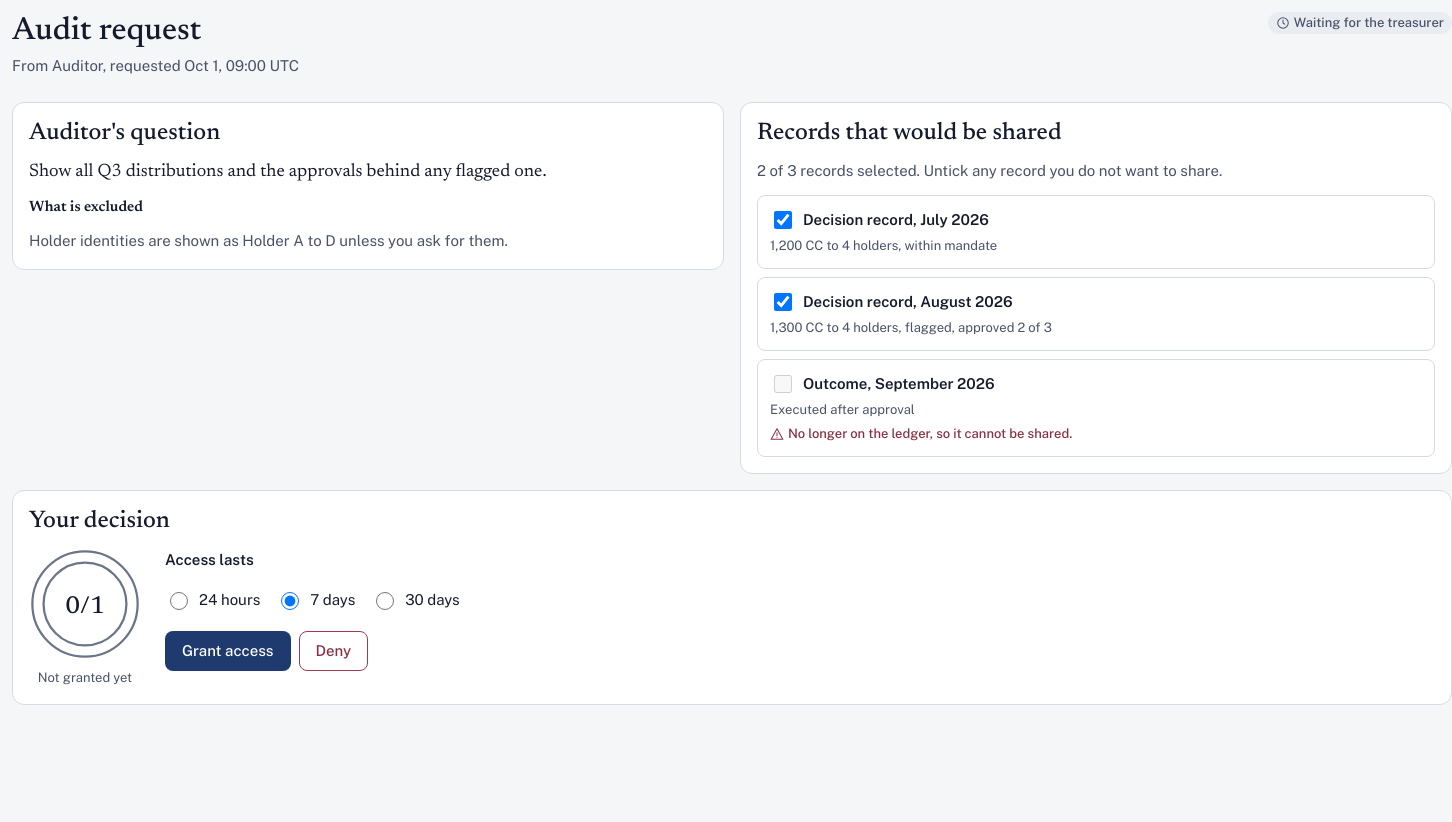
treasurer review page › grants with the chosen expiry and the chosen subset, and closes the seal from the response
This screenshot has width=1452, height=822.
Expected: the element "Auditor's question" is shown, x1=12 y1=102 x2=724 y2=270
Click the checkbox labelled "Decision record, August 2026" at x=783, y=302, box x1=774 y1=293 x2=792 y2=311
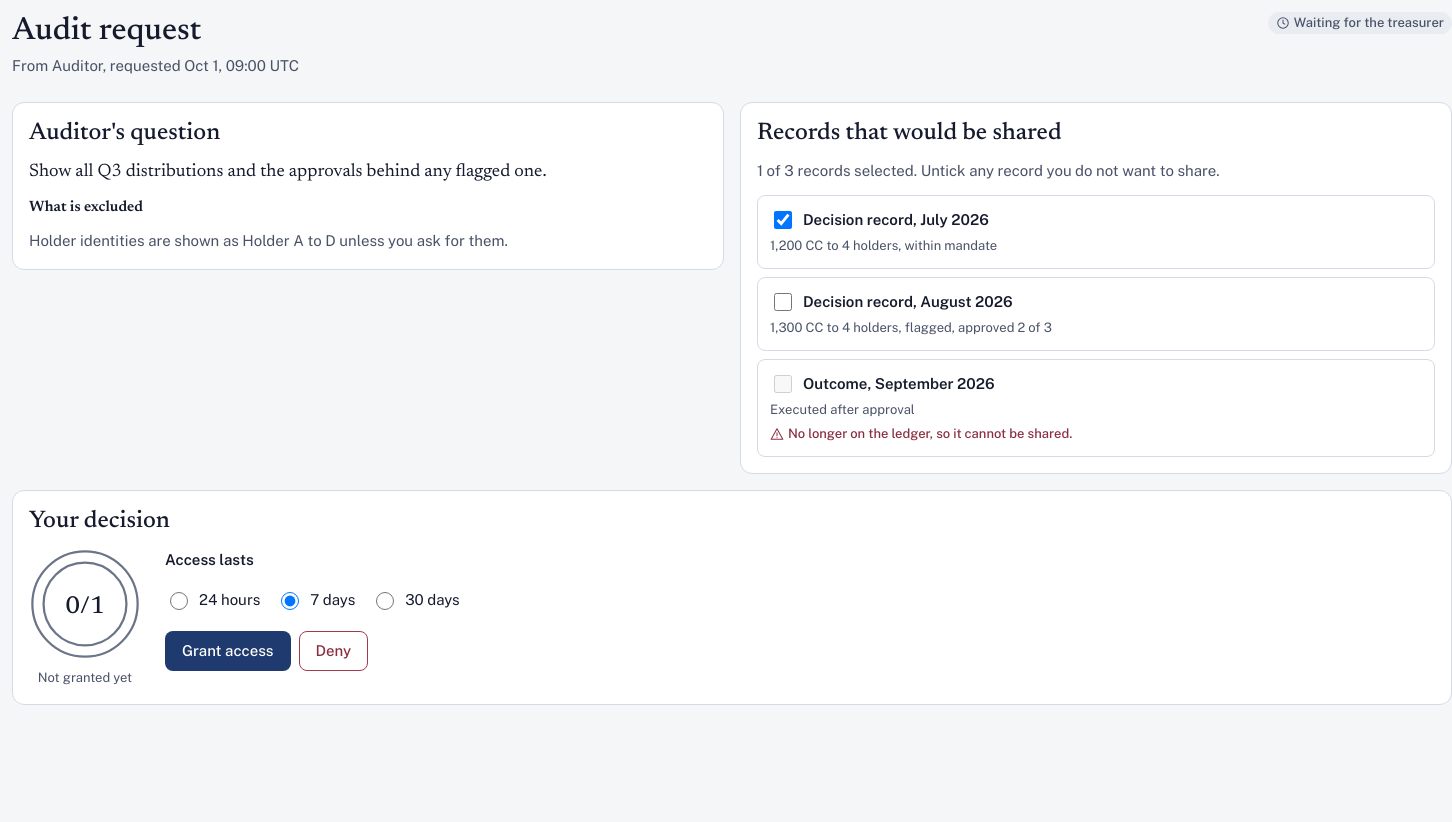
Click the radio button labelled "30 days" at x=385, y=601, box x1=376 y1=592 x2=394 y2=610
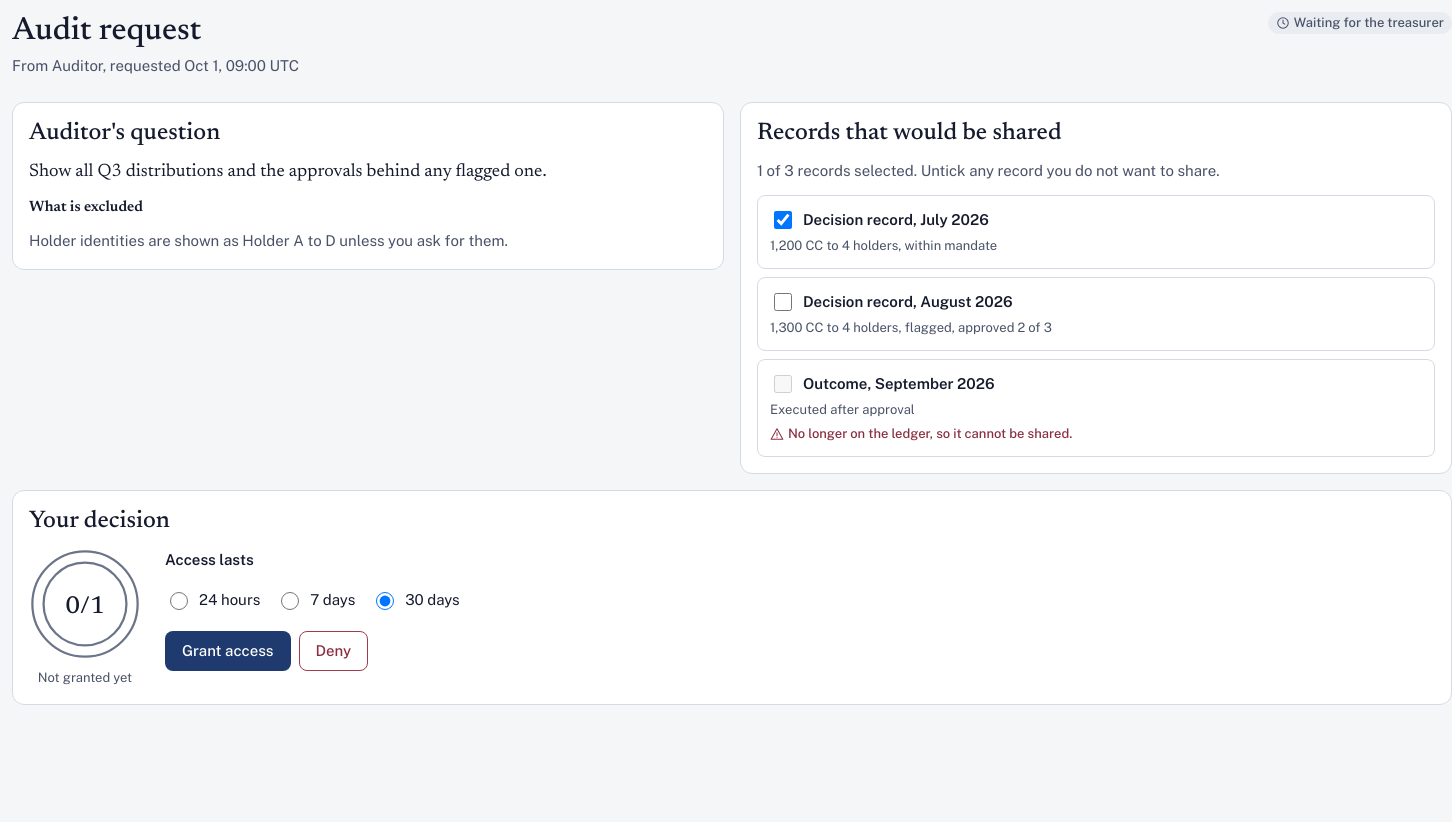
Now the radio button labelled "7 days" is not checked, box x1=281 y1=592 x2=299 y2=610
Click the button "Grant access" at x=228, y=651, box x1=165 y1=631 x2=290 y2=671
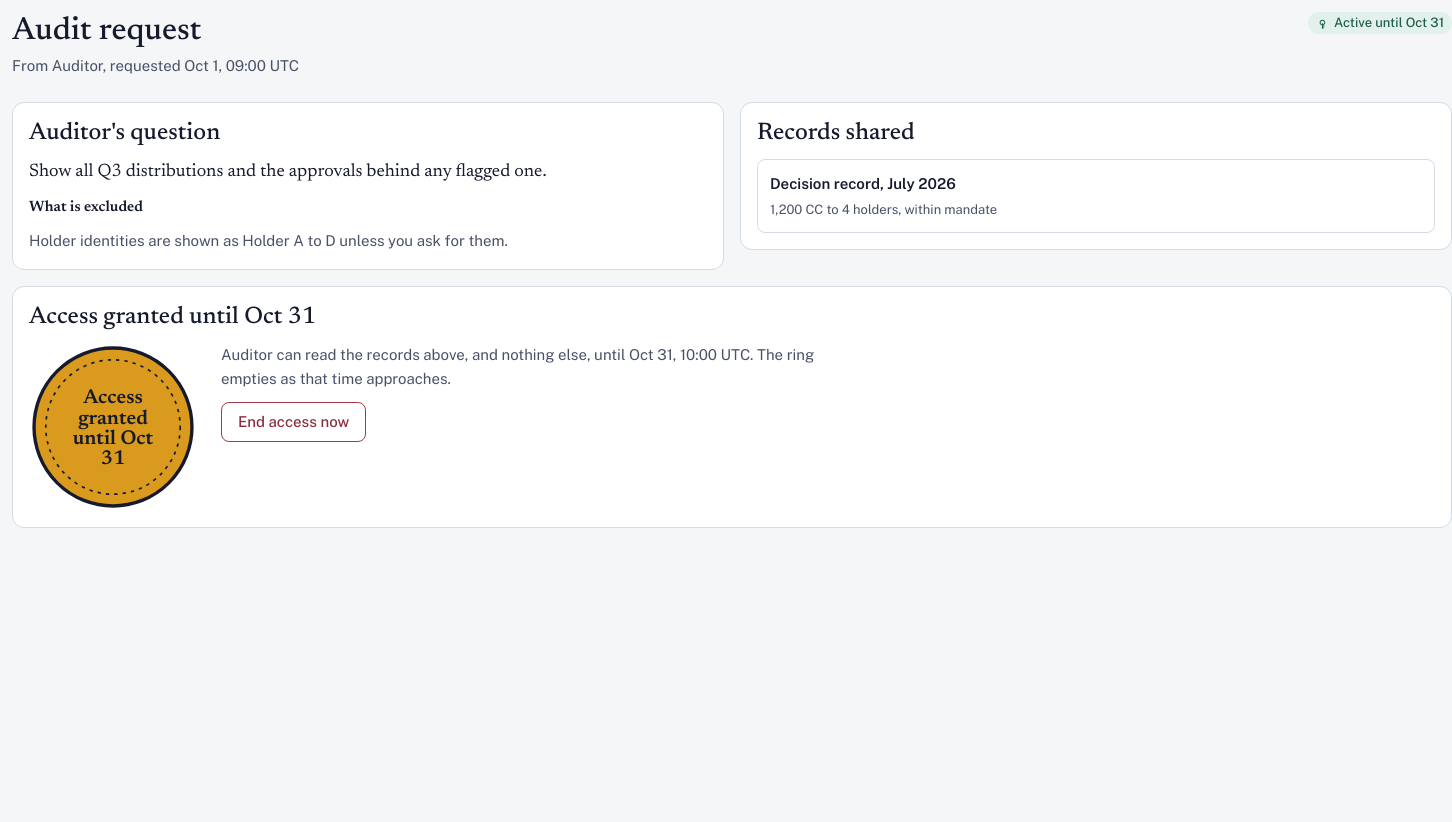
Now the heading "Access granted until Oct 31" is shown, box x1=29 y1=305 x2=316 y2=329
Now the picture named "1 of 1 signature, sealed. Access granted until Oct 31" is shown, box x1=29 y1=343 x2=197 y2=511
Now the button "End access now" is shown, box x1=221 y1=402 x2=366 y2=442
